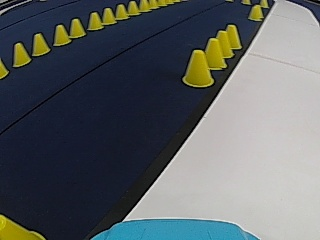cone: (182, 48, 214, 86), (0, 216, 46, 239), (205, 38, 227, 71), (214, 30, 234, 59), (13, 42, 30, 67), (225, 24, 241, 50), (32, 33, 50, 56), (52, 24, 70, 45), (70, 18, 86, 36), (88, 11, 103, 30), (102, 8, 117, 25), (0, 56, 10, 80), (249, 5, 264, 21), (116, 4, 128, 20), (128, 1, 140, 16), (141, 0, 150, 13)
